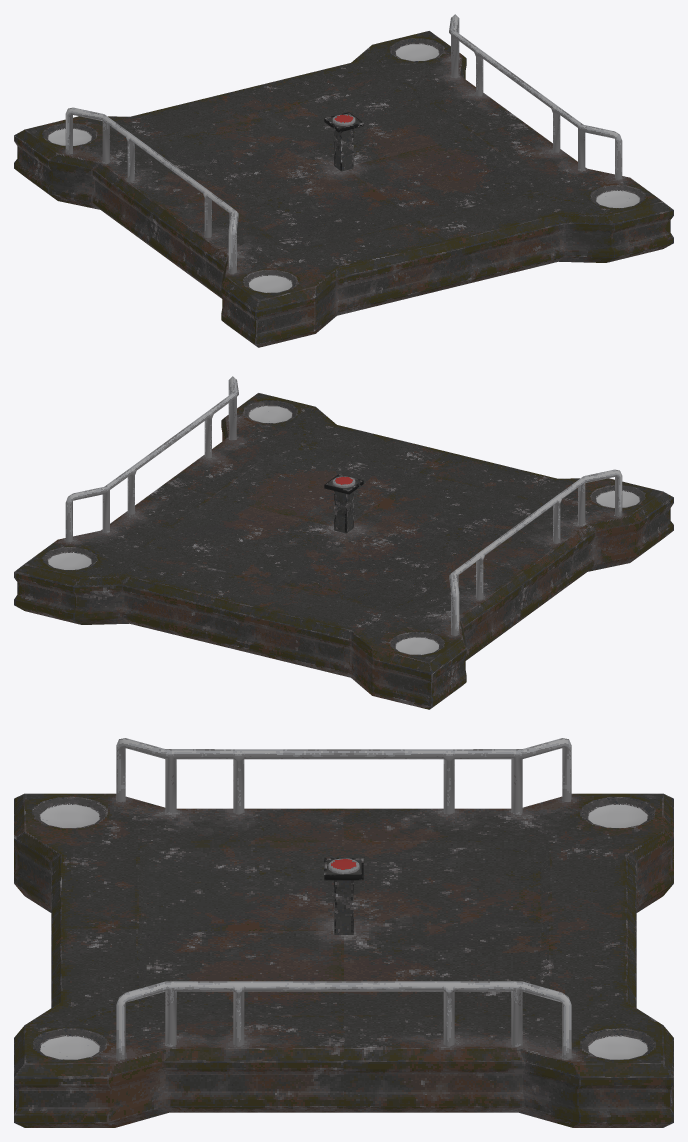
File: elevator.gltf
The picture shows the model from 3 angles, top to bottom: view 1: azimuth 30°, elevation 25°; view 2: azimuth 150°, elevation 25°; view 3: azimuth 270°, elevation 25°; orthographic projection. The views are drawn at different scales.
Visible parts, largest first — view 1: Cube, Cube.001, Cube.002; view 2: Cube, Cube.001, Cube.002; view 3: Cube, Cube.001, Cube.002.
Boxes of the visible parts, bbox=[...] form: Cube: bbox=[14, 31, 673, 347]; Cube.001: bbox=[65, 14, 622, 273]; Cube.002: bbox=[324, 112, 363, 171]; Cube: bbox=[14, 393, 673, 709]; Cube.001: bbox=[65, 376, 622, 635]; Cube.002: bbox=[324, 474, 363, 533]; Cube: bbox=[14, 793, 673, 1127]; Cube.001: bbox=[116, 738, 571, 1058]; Cube.002: bbox=[324, 858, 363, 934].
Bounding box in the file's own units: 10 × 2.15 × 10.
Materials: 1 (1 with a texture image).
